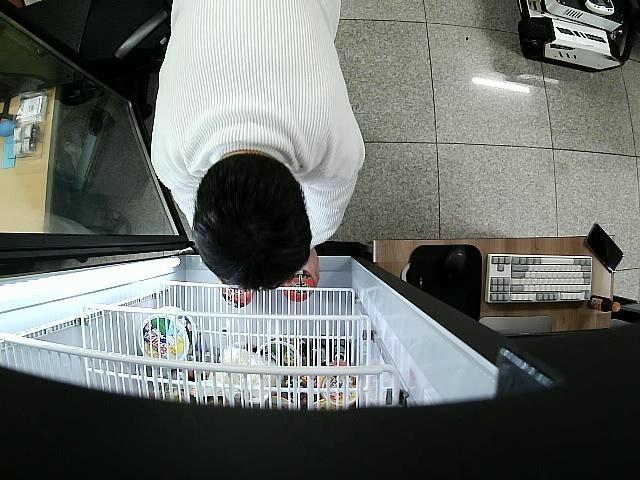02_shinRamen_S: (284, 270, 315, 302)
